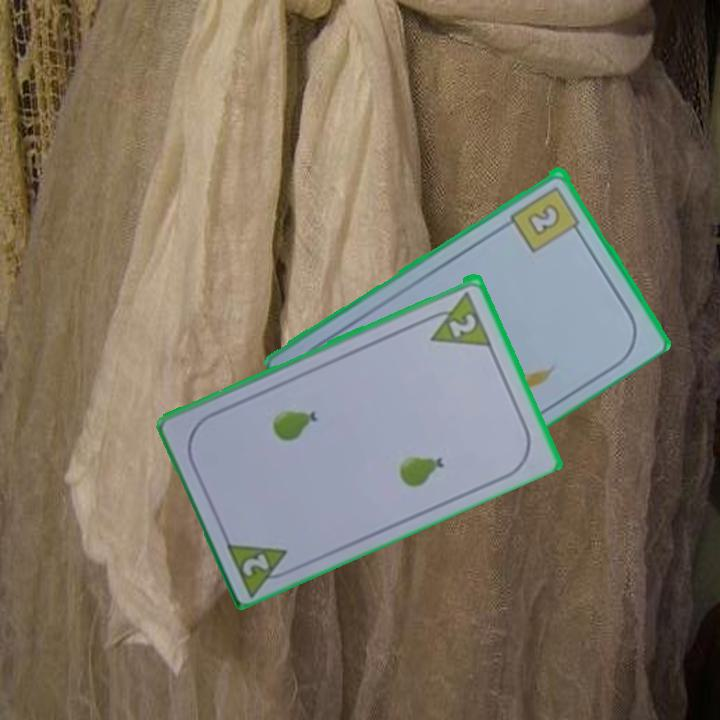2b: (507, 181, 585, 255)
2p: (419, 286, 494, 349), (238, 549, 273, 579)
